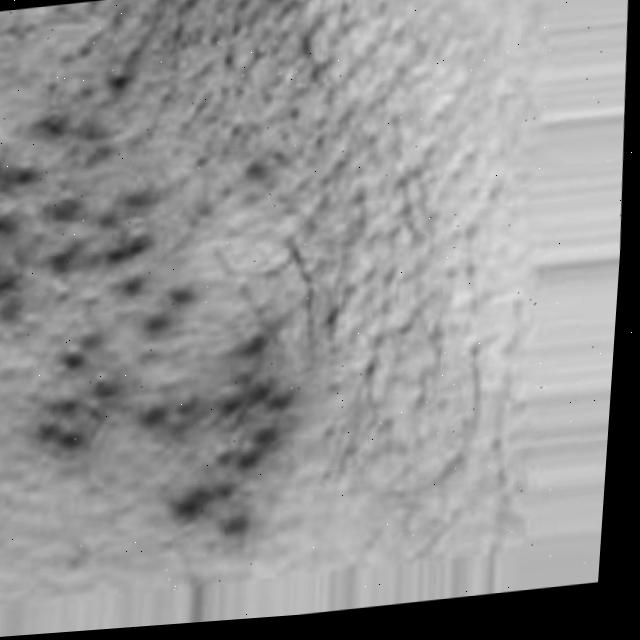Shingles: (0, 89, 319, 566)
